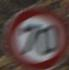Speed Limit -70-: (0, 1, 68, 69)
